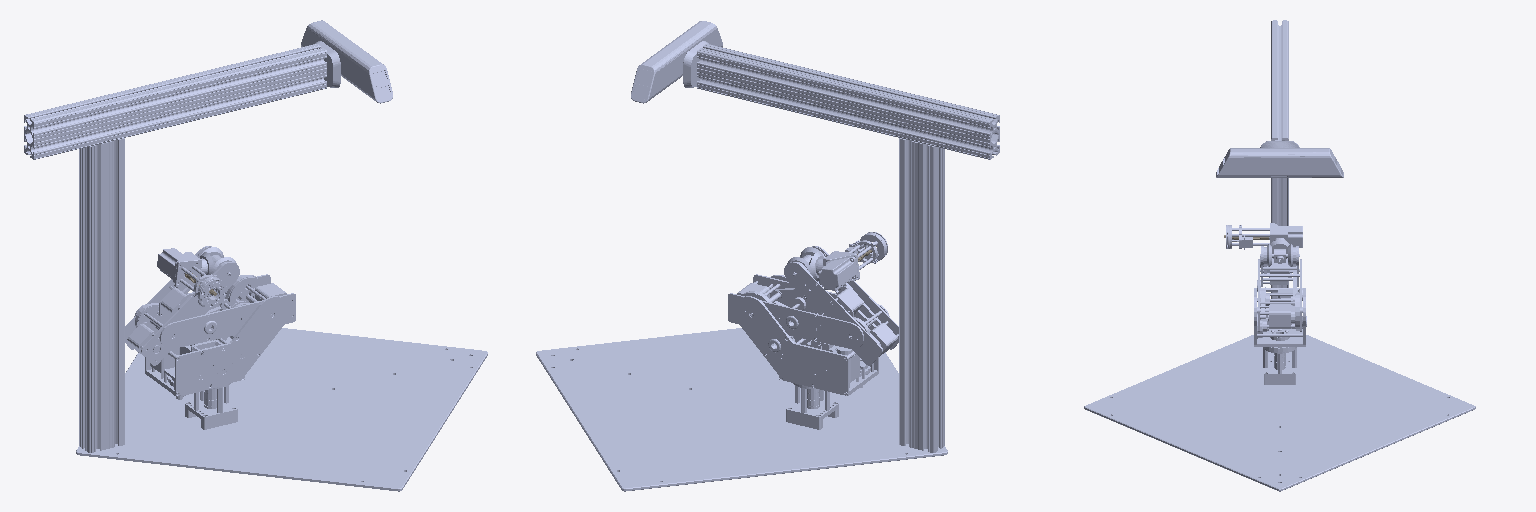
The robot description file, URDF, robot "Dorna_2_URDF":
<?xml version="1.0" encoding="utf-8"?>
<!-- This URDF was automatically created by SolidWorks to URDF Exporter! Originally created by [author] ([email redacted]) 
     Commit Version: 1.6.0-1-g15f4949  Build Version: 1.6.7594.29634
     For more information, please see http://wiki.ros.org/sw_urdf_exporter -->
<robot
  name="Dorna_2_URDF">
  <link
    name="base_link">
    <inertial>
      <origin
        xyz="0.12698 1.4251E-06 0.055207"
        rpy="0 0 0" />
      <mass
        value="20.928" />
      <inertia
        ixx="0.60154"
        ixy="8.1377E-09"
        ixz="1.943E-05"
        iyy="0.62155"
        iyz="9.3581E-07"
        izz="1.1706" />
    </inertial>
    <visual>
      <origin
        xyz="0 0 0"
        rpy="0 0 0" />
      <geometry>
        <mesh
          filename="package://Dorna_2_URDF/meshes/base_link.STL" />
      </geometry>
      <material
        name="">
        <color
          rgba="0.79216 0.81961 0.93333 1" />
      </material>
    </visual>
    <collision>
      <origin
        xyz="0 0 0"
        rpy="0 0 0" />
      <geometry>
        <mesh
          filename="package://Dorna_2_URDF/meshes/base_link_Collision.STL" />
      </geometry>
    </collision>
  </link>
  <link
    name="Link_1">
    <inertial>
      <origin
        xyz="-0.022037 7.1084E-05 0.13277"
        rpy="0 0 0" />
      <mass
        value="0.70203" />
      <inertia
        ixx="0.0016762"
        ixy="0.00012689"
        ixz="-0.00047838"
        iyy="0.0028093"
        iyz="-3.1578E-05"
        izz="0.0029334" />
    </inertial>
    <visual>
      <origin
        xyz="0 0 0"
        rpy="0 0 0" />
      <geometry>
        <mesh
          filename="package://Dorna_2_URDF/meshes/Link_1.STL" />
      </geometry>
      <material
        name="">
        <color
          rgba="0.79216 0.81961 0.93333 1" />
      </material>
    </visual>
    <collision>
      <origin
        xyz="0 0 0"
        rpy="0 0 0" />
      <geometry>
        <mesh
          filename="package://Dorna_2_URDF/meshes/Link_1_Collision.STL" />
      </geometry>
    </collision>
  </link>
  <joint
    name="Joint_0"
    type="revolute">
    <origin
      xyz="0 0 0"
      rpy="0 0 0" />
    <parent
      link="base_link" />
    <child
      link="Link_1" />
    <axis
      xyz="0 0 1" />
    <limit
      lower="-2.7925"
      upper="3.1416"
      effort="10"
      velocity="10.472" />
  </joint>
  <link
    name="Link_2">
    <inertial>
      <origin
        xyz="-0.033002 -0.047997 0.00035643"
        rpy="0 0 0" />
      <mass
        value="0.32464" />
      <inertia
        ixx="0.00049008"
        ixy="-6.9759E-05"
        ixz="1.7367E-05"
        iyy="0.0017419"
        iyz="7.6578E-07"
        izz="0.0020907" />
    </inertial>
    <visual>
      <origin
        xyz="0 0 0"
        rpy="0 0 0" />
      <geometry>
        <mesh
          filename="package://Dorna_2_URDF/meshes/Link_2.STL" />
      </geometry>
      <material
        name="">
        <color
          rgba="0.79216 0.81961 0.93333 1" />
      </material>
    </visual>
    <collision>
      <origin
        xyz="0 0 0"
        rpy="0 0 0" />
      <geometry>
        <mesh
          filename="package://Dorna_2_URDF/meshes/Link_2_Collision.STL" />
      </geometry>
    </collision>
  </link>
  <joint
    name="Joint_1"
    type="revolute">
    <origin
      xyz="0.095476 0.0508 0.20647"
      rpy="0 0 0" />
    <parent
      link="Link_1" />
    <child
      link="Link_2" />
    <axis
      xyz="0 1 0" />
    <limit
      lower="0"
      upper="4.7123"
      effort="10"
      velocity="7.854" />
  </joint>
  <link
    name="Link_3">
    <inertial>
      <origin
        xyz="0.016739 -0.042836 0.012788"
        rpy="0 0 0" />
      <mass
        value="0.27313" />
      <inertia
        ixx="0.00049852"
        ixy="1.7841E-05"
        ixz="-0.00036836"
        iyy="0.00085068"
        iyz="1.3614E-05"
        izz="0.00069932" />
    </inertial>
    <visual>
      <origin
        xyz="0 0 0"
        rpy="0 0 0" />
      <geometry>
        <mesh
          filename="package://Dorna_2_URDF/meshes/Link_3.STL" />
      </geometry>
      <material
        name="">
        <color
          rgba="0.79216 0.81961 0.93333 1" />
      </material>
    </visual>
    <collision>
      <origin
        xyz="0 0 0"
        rpy="0 0 0" />
      <geometry>
        <mesh
          filename="package://Dorna_2_URDF/meshes/Link_3_Collision.STL" />
      </geometry>
    </collision>
  </link>
  <joint
    name="Joint_2"
    type="revolute">
    <origin
      xyz="-0.20319 -0.00635 0.0022018"
      rpy="0 0 0" />
    <parent
      link="Link_2" />
    <child
      link="Link_3" />
    <axis
      xyz="0 1 0" />
    <limit
      lower="-4.9567"
      upper="0"
      effort="10"
      velocity="7.854" />
  </joint>
  <link
    name="Link_4">
    <inertial>
      <origin
        xyz="7.2482E-10 -0.037338 9.1913E-10"
        rpy="0 0 0" />
      <mass
        value="0.076836" />
      <inertia
        ixx="5.6381E-05"
        ixy="-9.1643E-15"
        ixz="-6.6324E-08"
        iyy="1.719E-05"
        iyz="-1.7906E-12"
        izz="5.5894E-05" />
    </inertial>
    <visual>
      <origin
        xyz="0 0 0"
        rpy="0 0 0" />
      <geometry>
        <mesh
          filename="package://Dorna_2_URDF/meshes/Link_4.STL" />
      </geometry>
      <material
        name="">
        <color
          rgba="0.79216 0.81961 0.93333 1" />
      </material>
    </visual>
    <collision>
      <origin
        xyz="0 0 0"
        rpy="0 0 0" />
      <geometry>
        <mesh
          filename="package://Dorna_2_URDF/meshes/Link_4_Collision.STL" />
      </geometry>
    </collision>
  </link>
  <joint
    name="Joint_3"
    type="revolute">
    <origin
      xyz="0.1211 -0.007112 0.092521"
      rpy="0 0 0" />
    <parent
      link="Link_3" />
    <child
      link="Link_4" />
    <axis
      xyz="0 -1 0" />
    <limit
      lower="-4.71239"
      upper="0"
      effort="10"
      velocity="34.907" />
  </joint>
  <link
    name="Link_5">
    <inertial>
      <origin
        xyz="-0.07942 -0.033145 0.010648"
        rpy="0 0 0" />
      <mass
        value="0.28989" />
      <inertia
        ixx="0.00010848"
        ixy="-2.7004E-06"
        ixz="1.9943E-07"
        iyy="8.8786E-05"
        iyz="3.3745E-07"
        izz="0.00010985" />
    </inertial>
    <visual>
      <origin
        xyz="0 0 0"
        rpy="0 0 0" />
      <geometry>
        <mesh
          filename="package://Dorna_2_URDF/meshes/Link_5.STL" />
      </geometry>
      <material
        name="">
        <color
          rgba="0.79216 0.81961 0.93333 1" />
      </material>
    </visual>
    <collision>
      <origin
        xyz="0 0 0"
        rpy="0 0 0" />
      <geometry>
        <mesh
          filename="package://Dorna_2_URDF/meshes/Link_5_Collision.STL" />
      </geometry>
    </collision>
  </link>
  <joint
    name="Joint_4"
    type="continuous">
    <origin
      xyz="0.012588 -0.037338 -0.0016842"
      rpy="0 0 0" />
    <parent
      link="Link_4" />
    <child
      link="Link_5" />
    <axis
      xyz="0.99117 0 -0.13261" />
    <limit
      effort="10"
      velocity="34.907" />
  </joint>
  <link
    name="Link_6">
    <inertial>
      <origin
        xyz="9.3504E-06 0.051551 -1.3987E-06"
        rpy="0 0 0" />
      <mass
        value="0.054936" />
      <inertia
        ixx="7.5554E-06"
        ixy="-6.5216E-09"
        ixz="-6.8484E-09"
        iyy="1.0764E-06"
        iyz="8.0904E-10"
        izz="7.505E-06" />
    </inertial>
    <visual>
      <origin
        xyz="0 0 0"
        rpy="0 0 0" />
      <geometry>
        <mesh
          filename="package://Dorna_2_URDF/meshes/Link_6.STL" />
      </geometry>
      <material
        name="">
        <color
          rgba="0.64706 0.61961 0.58431 1" />
      </material>
    </visual>
    <collision>
      <origin
        xyz="0 0 0"
        rpy="0 0 0" />
      <geometry>
        <mesh
          filename="package://Dorna_2_URDF/meshes/Link_6_Collision.STL" />
      </geometry>
    </collision>
  </link>
  <joint
    name="Joint_5"
    type="continuous">
    <origin
      xyz="-0.08835 -0.12269 0.011821"
      rpy="0 0 0" />
    <parent
      link="Link_5" />
    <child
      link="Link_6" />
    <axis
      xyz="0 1 0" />
  </joint>
</robot>

--- Render facts (derived) ---
3 views of the same robot in one strip: view 1: azimuth 30°, elevation 25°; view 2: azimuth 150°, elevation 25°; view 3: azimuth 270°, elevation 25° (orthographic).
Model Dorna_2_URDF with 7 links and 6 joints (4 revolute, 2 continuous), rooted at base_link, posed every joint at zero.
Visible links, largest first — view 1: base_link, Link_1, Link_2, Link_3, Link_5; view 2: base_link, Link_1, Link_3, Link_2, Link_5; view 3: base_link, Link_1, Link_2, Link_5, Link_3.
Link boxes in pixels (x1,y1,x2,y2): base_link: (24, 20, 487, 491); Link_1: (145, 275, 288, 408); Link_2: (134, 274, 295, 348); Link_3: (125, 246, 239, 365); Link_5: (157, 248, 226, 306); base_link: (536, 21, 999, 491); Link_1: (735, 275, 878, 408); Link_3: (784, 246, 898, 365); Link_2: (728, 274, 889, 348); Link_5: (809, 232, 887, 290); base_link: (1084, 20, 1475, 491); Link_1: (1254, 288, 1306, 369); Link_2: (1257, 259, 1302, 331); Link_5: (1226, 223, 1302, 263); Link_3: (1260, 246, 1299, 286).
Bounding box of the posed robot: 0.9545 × 0.8564 × 0.6922 m (x, y, z).
7 mesh visuals loaded from 7 distinct referenced files (7 binary STL).